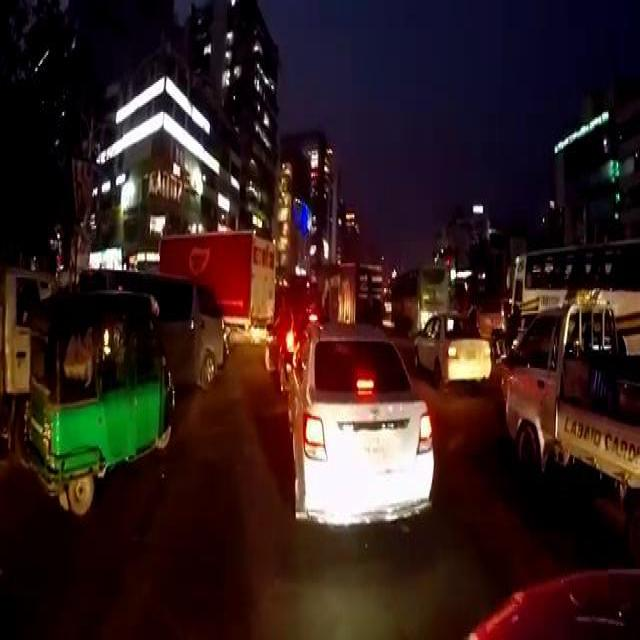bus: (508, 239, 638, 355), (389, 261, 448, 322)
car: (286, 319, 434, 527), (465, 560, 639, 638), (411, 308, 491, 382)
pickup: (499, 298, 638, 492), (157, 228, 275, 334), (0, 268, 57, 470)
three wheelers -CNG-: (23, 292, 175, 512)
van: (78, 267, 224, 384)
